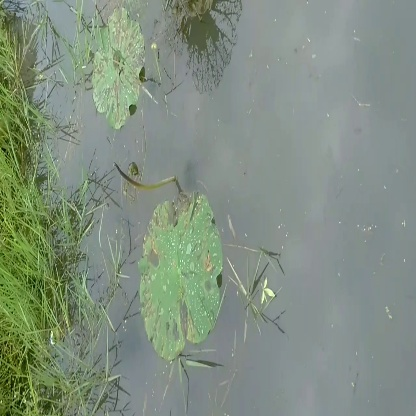leaf: (134, 189, 231, 360)
